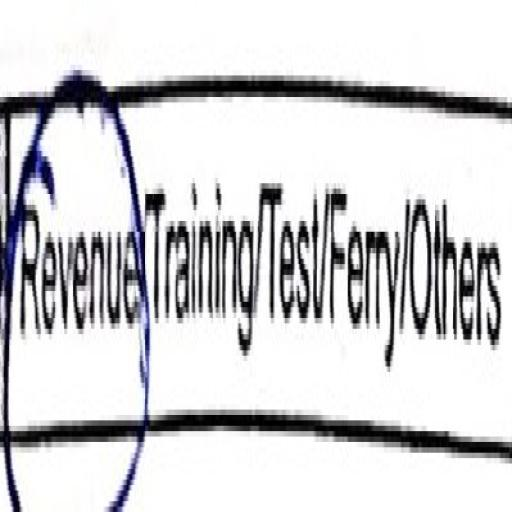check: (0, 37, 142, 512)
